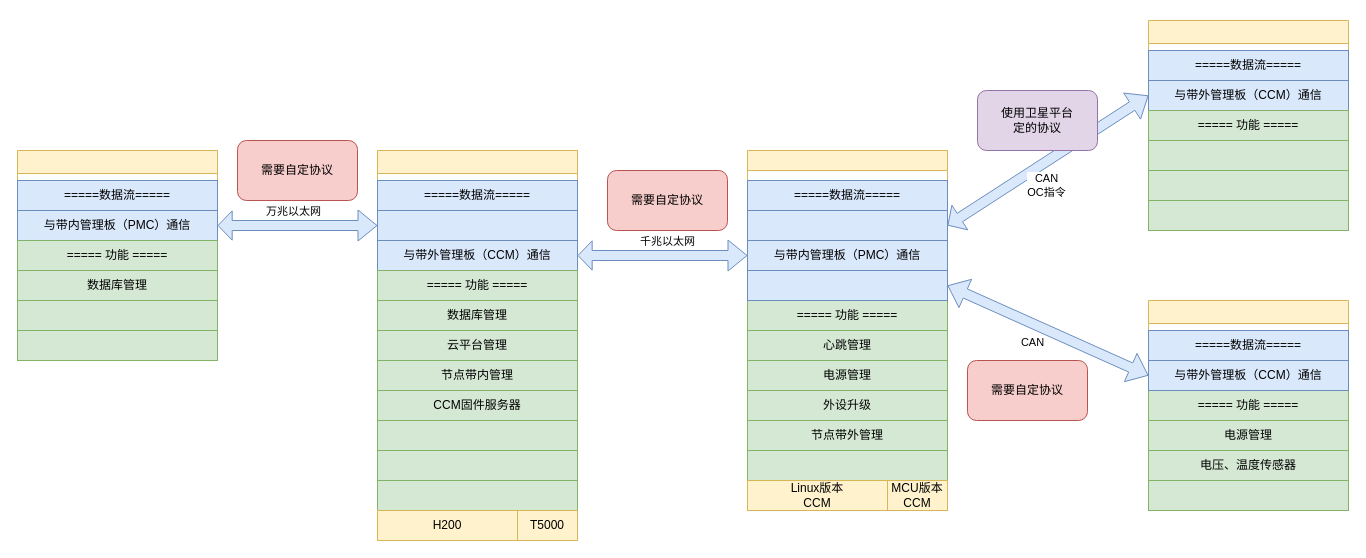
Some shapes in this 1366 by 558 pixel diagram are drawn without their labels. Each missing label, with the box of its shape:
CCM（Communication Controller Management） 通信管理板【带外管理】: (746, 150, 948, 480)
GSC（Ground Station Controller） 地面管理站: (16, 150, 218, 360)
PMC（Payload Management Controller） 载荷管理器【带内管理】: (376, 150, 578, 510)
satellite platform 卫星平台: (1148, 20, 1348, 230)
与卫星平台通信（遥控遥测）: (746, 210, 948, 240)
与地面站（GSC）通信: (376, 210, 578, 240)
与电源管理板通信: (746, 270, 948, 300)
电源管理板: (1148, 300, 1348, 510)
